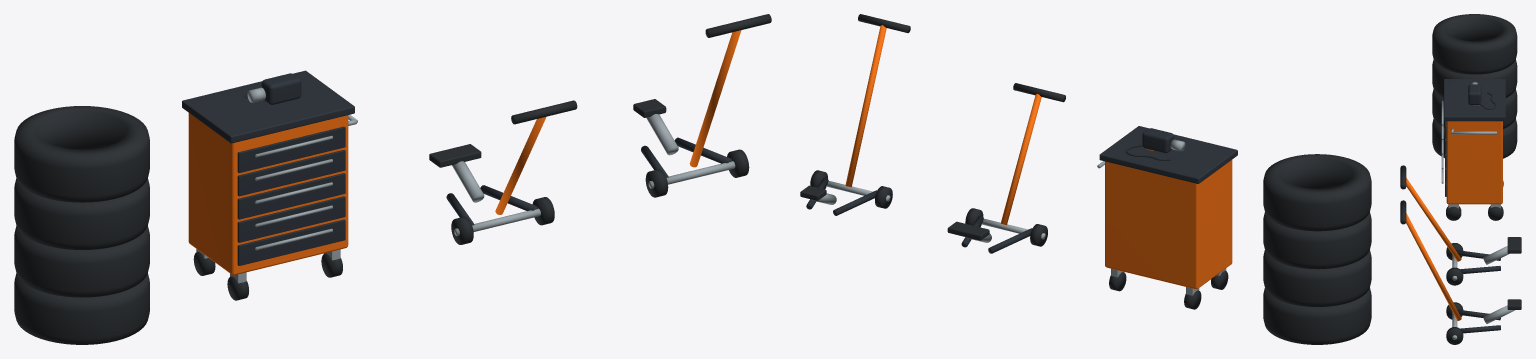
The model's file is pit-kit-v01.glb.
3 views of the same model, side by side, from view 1: azimuth 30°, elevation 25°; view 2: azimuth 150°, elevation 25°; view 3: azimuth 270°, elevation 25° (orthographic). The views are drawn at different scales.
Parts seen in each view (by area): view 1: Pit_SpareTire_0, Drawer_Face_0, Trolley_Cabinet, Caster_Fork, Jack_Handle, Jack_Handle.001, Jack_Lever.001, Air_Hose, Jack_Lever, Jack_Saddle, Jack_Base, Jack_Base.002 (+4 smaller); view 2: Pit_SpareTire_0, Trolley_Cabinet, Drawer_Face_0, Jack_Lever.001, Jack_Lever, Jack_Handle, Jack_Handle.001, Air_Hose, Jack_Saddle, Jack_Base, Jack_Base.002; view 3: Pit_SpareTire_0, Trolley_Cabinet, Drawer_Face_0, Jack_Lever.001, Jack_Handle, Jack_Handle.001, Caster_Fork, Jack_Lever, Air_Hose, Jack_Base, Jack_Base.002, Jack_Saddle (+3 smaller).
Boxes of the visible parts, bbox=[...] form: Pit_SpareTire_0: bbox=[14, 106, 149, 344]; Drawer_Face_0: bbox=[182, 70, 354, 265]; Trolley_Cabinet: bbox=[188, 113, 348, 275]; Caster_Fork: bbox=[196, 87, 357, 283]; Jack_Handle: bbox=[451, 100, 577, 244]; Jack_Handle.001: bbox=[645, 14, 771, 197]; Jack_Lever.001: bbox=[689, 30, 741, 167]; Air_Hose: bbox=[193, 94, 342, 300]; Jack_Lever: bbox=[495, 116, 546, 214]; Jack_Saddle: bbox=[429, 144, 481, 167]; Jack_Base: bbox=[446, 185, 538, 225]; Jack_Base.002: bbox=[641, 137, 732, 177]; Pit_SpareTire_0: bbox=[1263, 154, 1371, 344]; Trolley_Cabinet: bbox=[1105, 148, 1232, 289]; Drawer_Face_0: bbox=[1099, 126, 1237, 183]; Jack_Lever.001: bbox=[845, 25, 886, 187]; Jack_Lever: bbox=[1000, 94, 1041, 225]; Jack_Handle: bbox=[965, 83, 1065, 246]; Jack_Handle.001: bbox=[810, 14, 910, 208]; Air_Hose: bbox=[1109, 144, 1228, 309]; Jack_Saddle: bbox=[947, 221, 989, 240]; Jack_Base: bbox=[961, 215, 1032, 253]; Jack_Base.002: bbox=[806, 178, 877, 215]; Pit_SpareTire_0: bbox=[1432, 14, 1517, 158]; Trolley_Cabinet: bbox=[1446, 105, 1502, 204]; Drawer_Face_0: bbox=[1443, 79, 1505, 196]; Jack_Lever.001: bbox=[1406, 213, 1461, 320]; Jack_Handle: bbox=[1400, 165, 1463, 285]; Jack_Handle.001: bbox=[1400, 200, 1463, 344]; Caster_Fork: bbox=[1441, 82, 1500, 208]; Jack_Lever: bbox=[1406, 178, 1461, 261]; Air_Hose: bbox=[1446, 92, 1503, 220]; Jack_Base: bbox=[1456, 250, 1500, 273]; Jack_Base.002: bbox=[1457, 309, 1500, 333]; Jack_Saddle: bbox=[1507, 237, 1521, 253].
Bounding box in the file's own units: 4.35 × 1.15 × 1.03.
